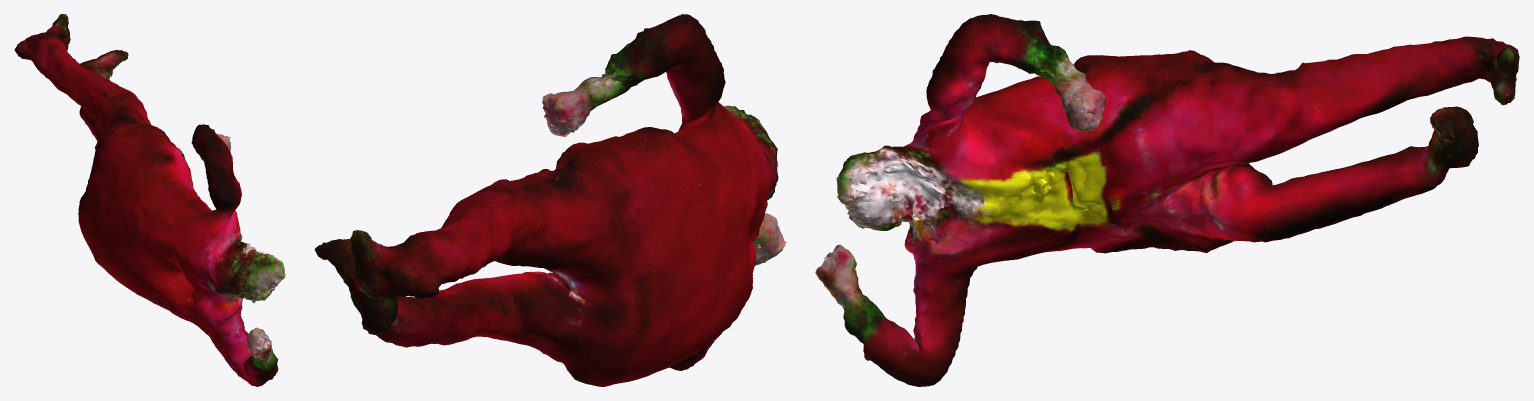
The model's file is joker_after.gltf.
3 renders of one model, left to right at view 1: azimuth 30°, elevation 25°; view 2: azimuth 150°, elevation 25°; view 3: azimuth 270°, elevation 25°, orthographic. The views are drawn at different scales.
Visible parts, largest first — view 1: pose0; view 2: pose0; view 3: pose0.
Boxes of the visible parts, <box> form: pose0: <box>14,14,285,386</box>; pose0: <box>314,14,786,386</box>; pose0: <box>815,14,1519,386</box>.
Size of the model in its own units: 0.3827 by 0.6409 by 1.15.
1 material, 1 textured.
